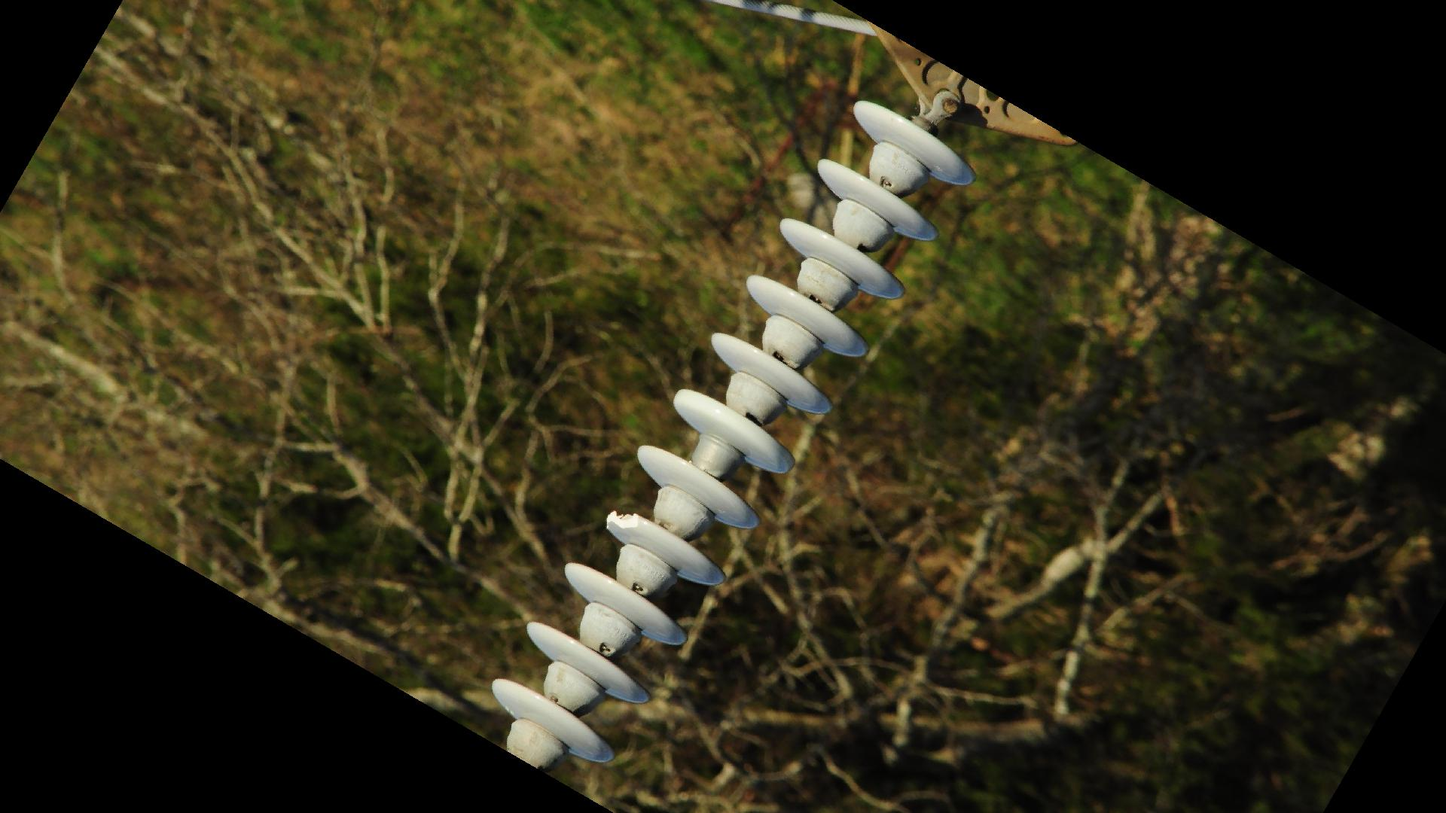insulator: (486, 90, 982, 772)
insulator_breakage: (599, 506, 648, 537)
